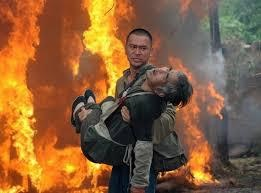fire: (0, 9, 74, 190), (167, 67, 229, 181), (70, 0, 133, 96)
